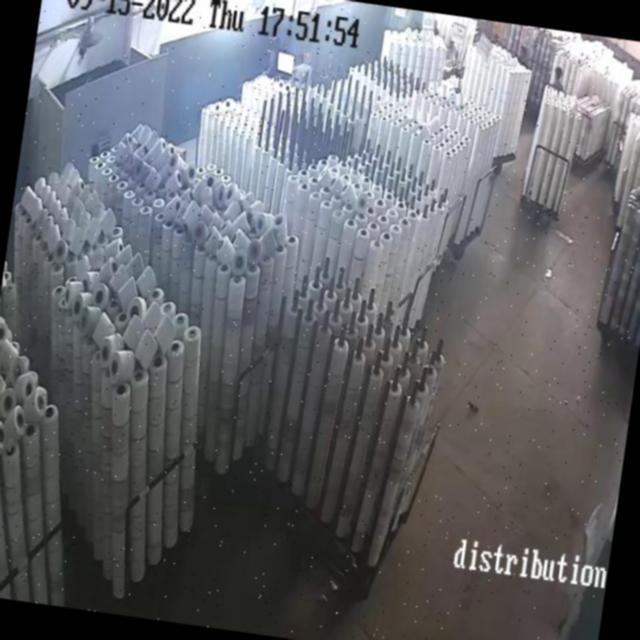person: (547, 60, 569, 93), (516, 38, 533, 72), (474, 19, 491, 48)
